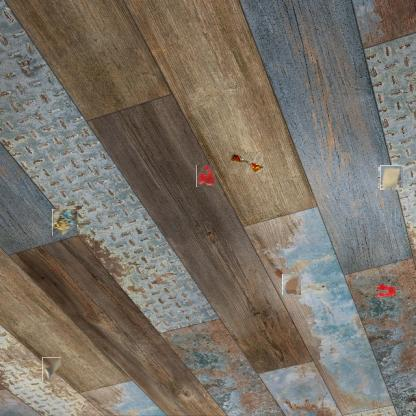dirty: (229, 152, 263, 174), (52, 209, 78, 236), (379, 166, 402, 189), (42, 357, 61, 382), (282, 274, 301, 296)
liquid: (196, 165, 215, 187), (372, 282, 396, 298)
